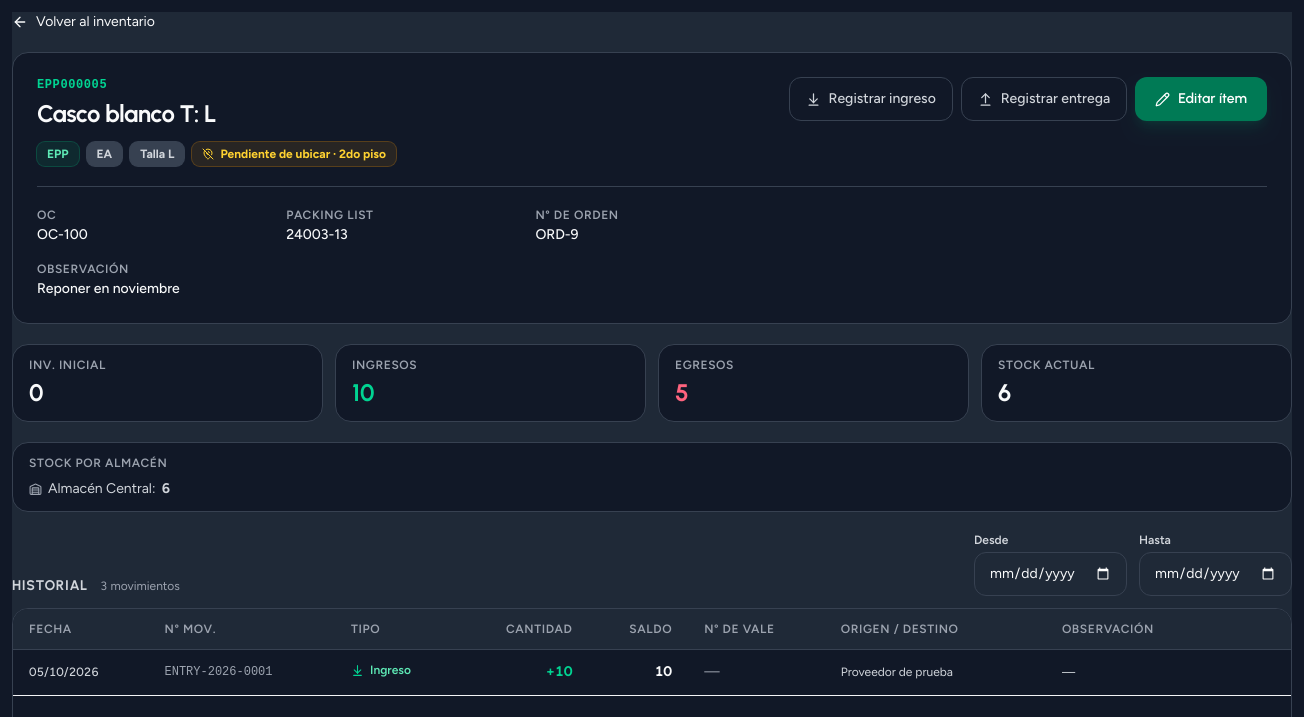
Test case: KardexPage › filtra por fecha, pide el kardex del periodo y valida el rango
The image size is (1304, 717).
Type "2026-10-01" into the date field labelled "Desde". click: {"x": 1050, "y": 574}
box: [974,552,1127,596]
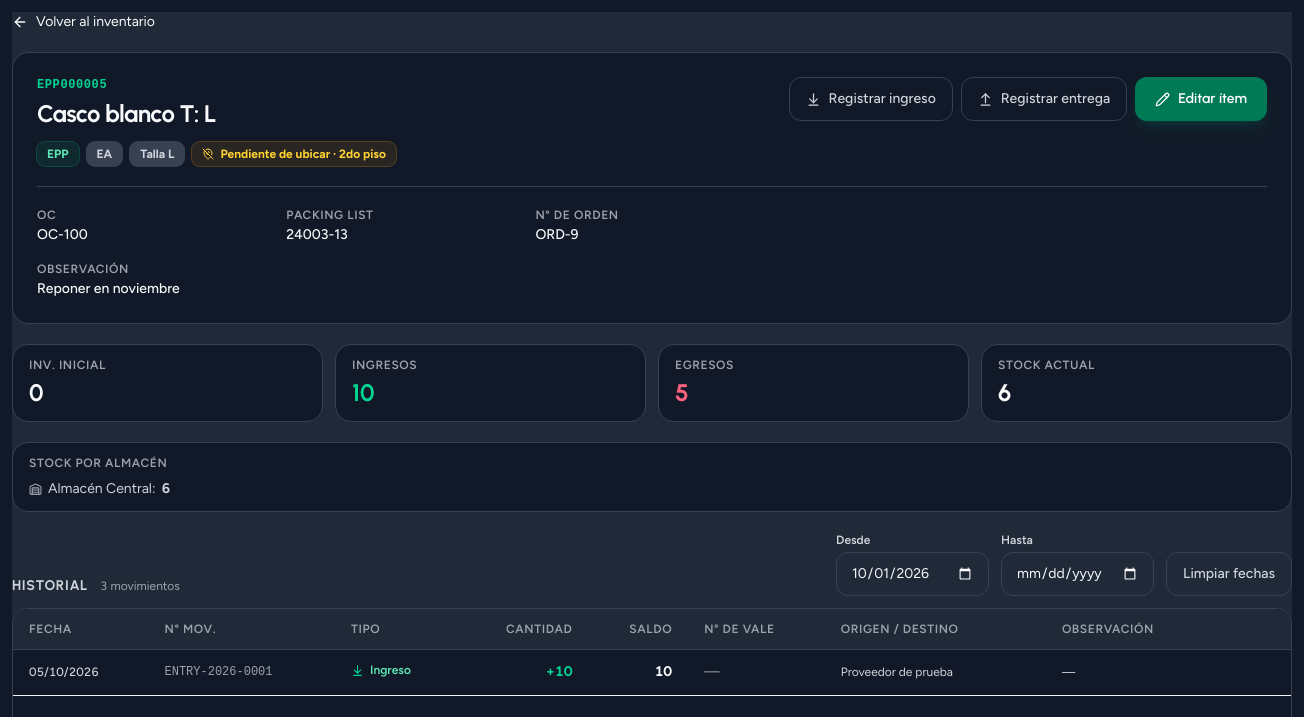
Type "2026-10-31" into the date field labelled "Hasta". click: {"x": 1078, "y": 574}
box: [1001,552,1154,596]
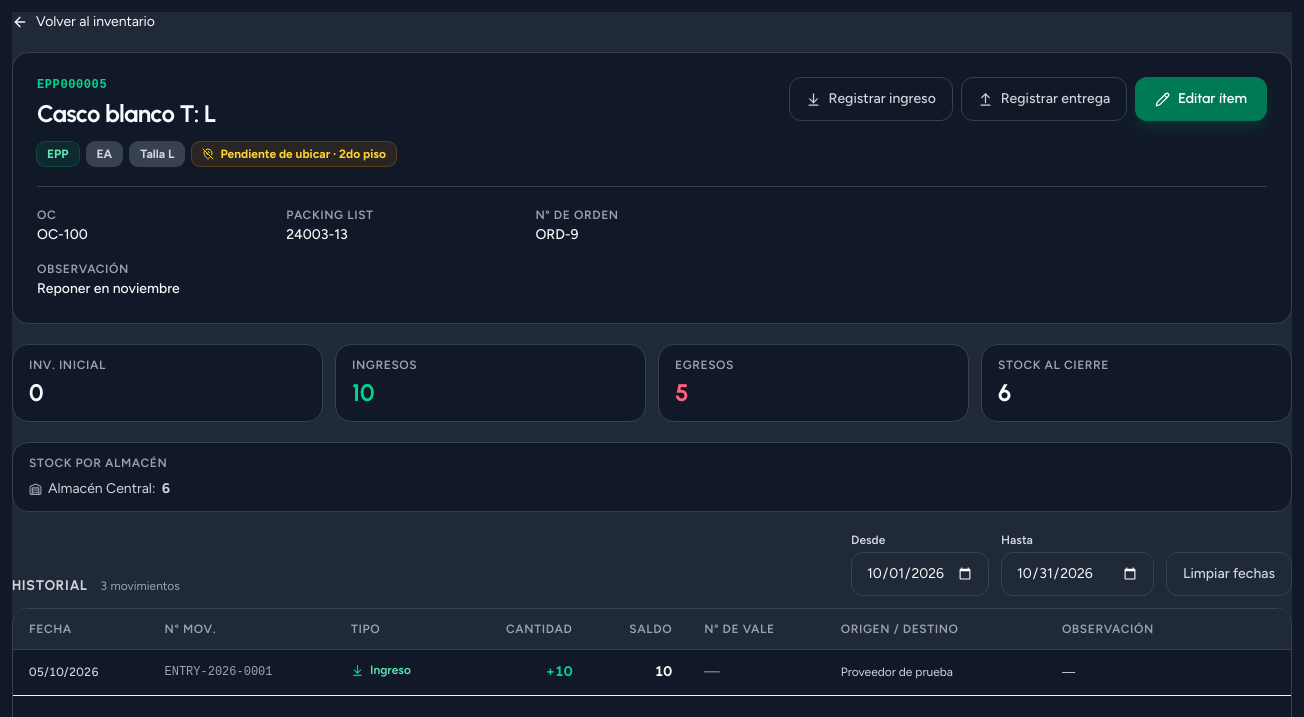
Type "2026-09-01" into the date field labelled "Hasta". click: {"x": 1078, "y": 574}
box: [1001,552,1154,596]
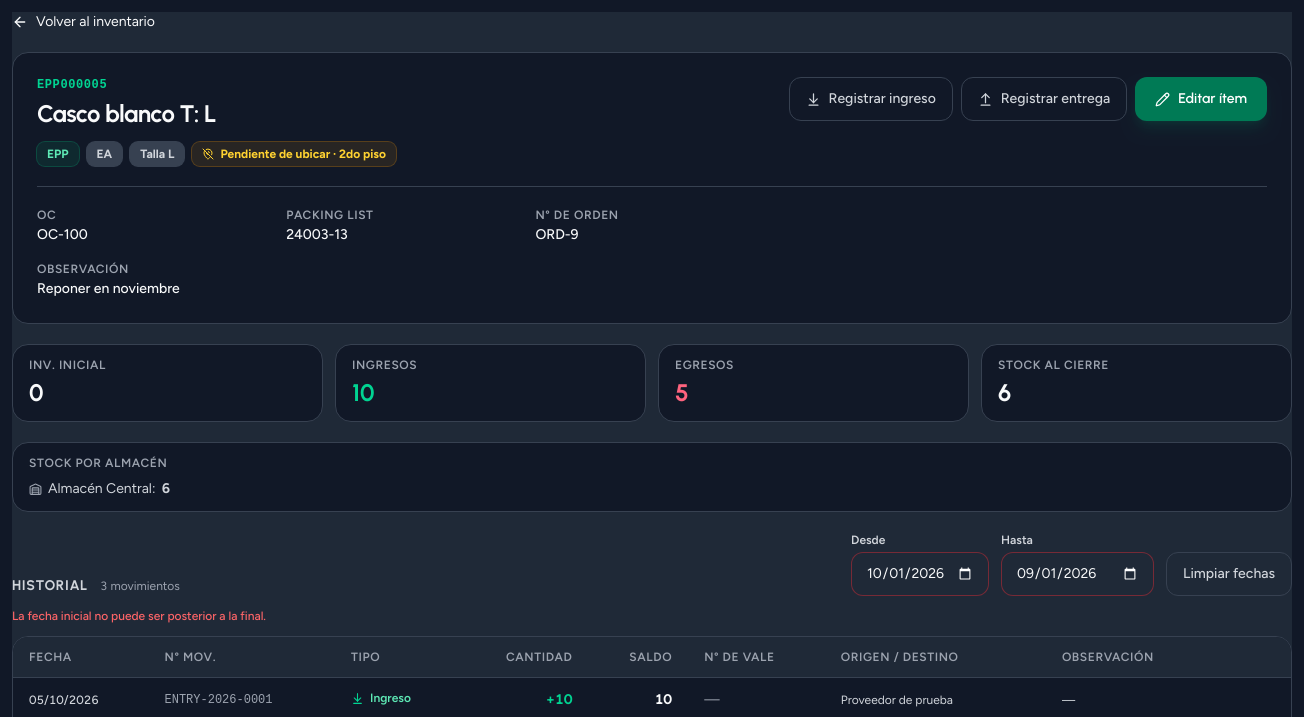
Now the message reads "La fecha inicial no puede ser posterior a la final.", box [12,609,266,623]
